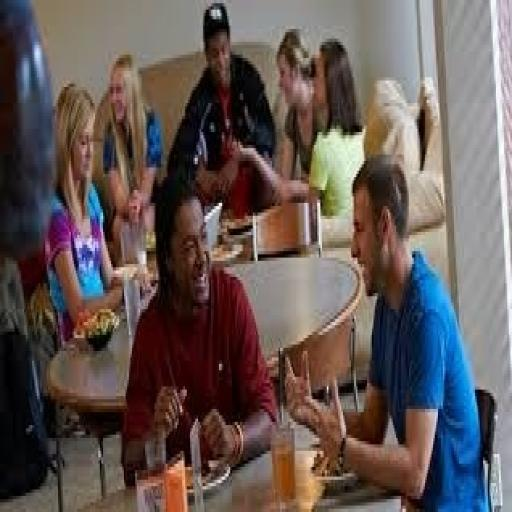eating: (282, 151, 488, 509), (121, 171, 280, 483), (166, 0, 277, 216)
